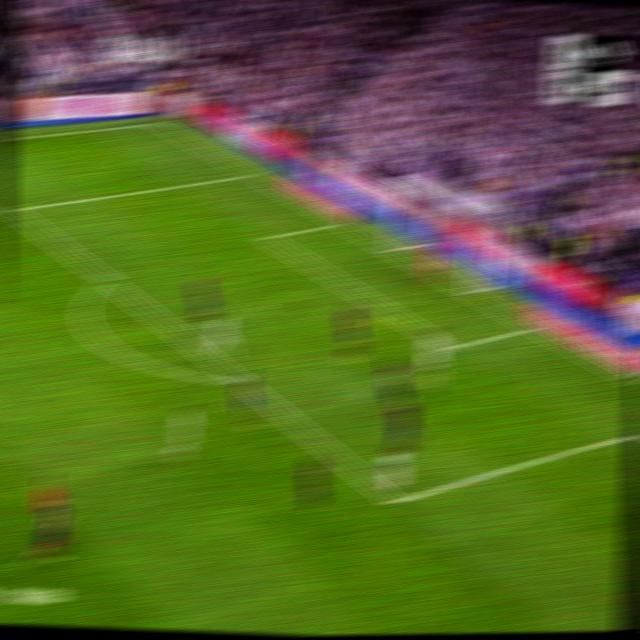bigarea_bottom_inner: (384, 489, 406, 514)
bigarea_top_inner: (5, 202, 24, 218)
bigarea_top_outter: (242, 167, 261, 180)
bottom_arc_area_intersection: (228, 371, 248, 389)
corner: (150, 118, 168, 127)
smallarea_bottom_outter: (523, 319, 543, 334)
smallarea_top_inner: (260, 229, 278, 245)
top_arc_area_intersection: (96, 269, 118, 288)
